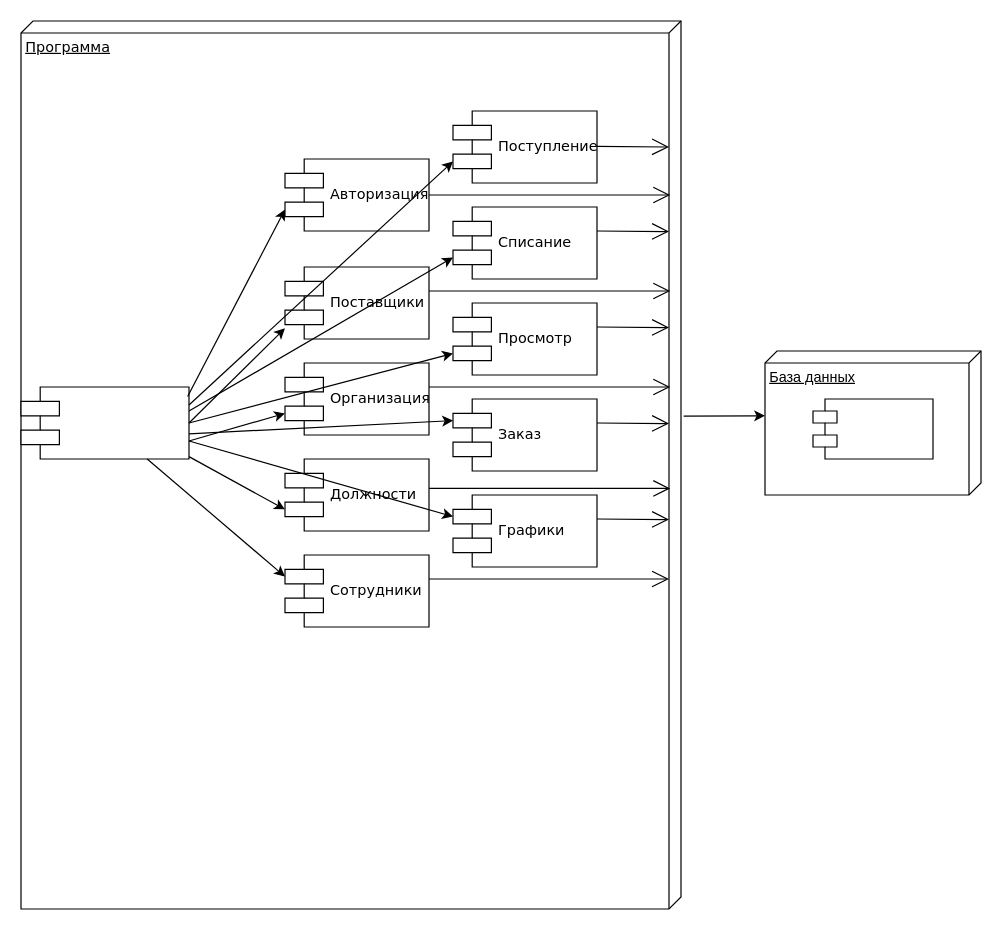
This 1002x930 diagram has some shape labels left out. Each missing label, with the centre of its shape:
"Главное окно" goes at (104,422).
"Схема БД" goes at (872,428).
